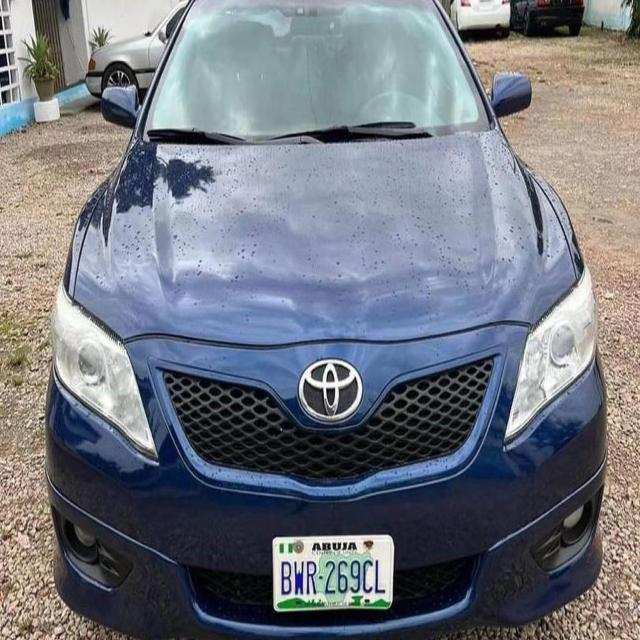Nigerian License Plate - vdataset benjamin-daria: (272, 533, 394, 612)
